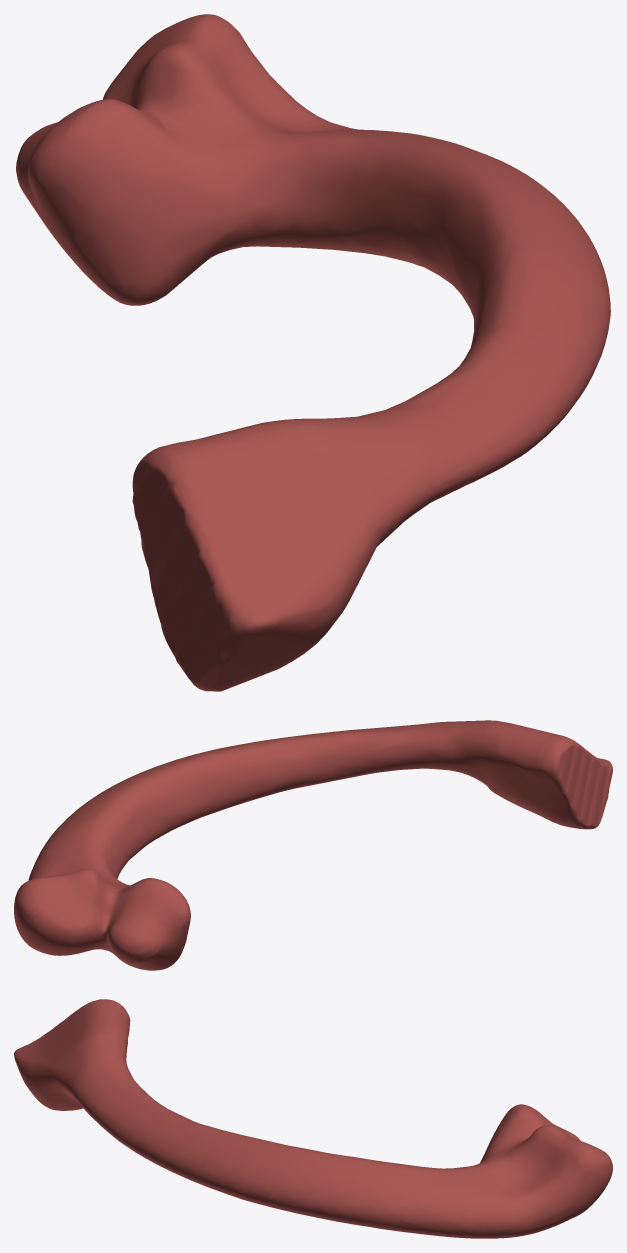
The model's file is FMA67936.glb.
The picture shows the model from 3 angles, top to bottom: view 1: azimuth 30°, elevation 25°; view 2: azimuth 150°, elevation 25°; view 3: azimuth 270°, elevation 25°; orthographic projection. The views are drawn at different scales.
Visible parts, largest first — view 1: FMA67936; view 2: FMA67936; view 3: FMA67936.
Part boxes in pixels (left/top/right/bottom): FMA67936: left=16, top=14, right=610, bottom=691; FMA67936: left=14, top=720, right=612, bottom=970; FMA67936: left=14, top=999, right=612, bottom=1238.
Bounding box in the file's own units: 0.0234 × 0.00759 × 0.0357.
